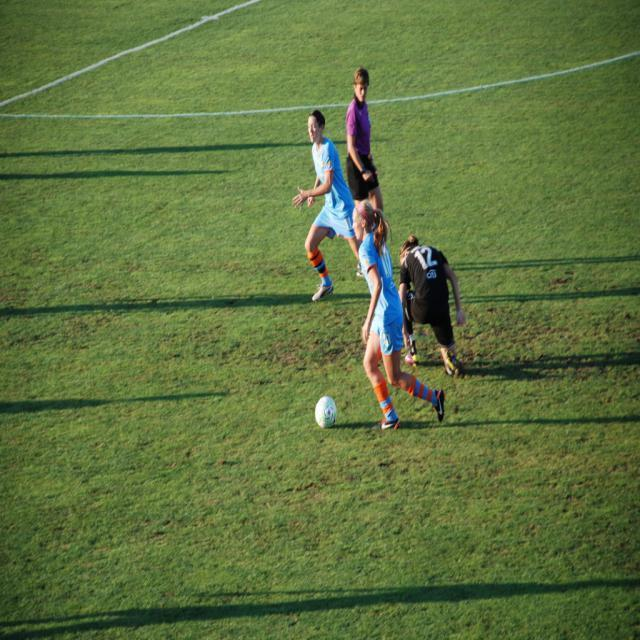football: (309, 388, 349, 452)
